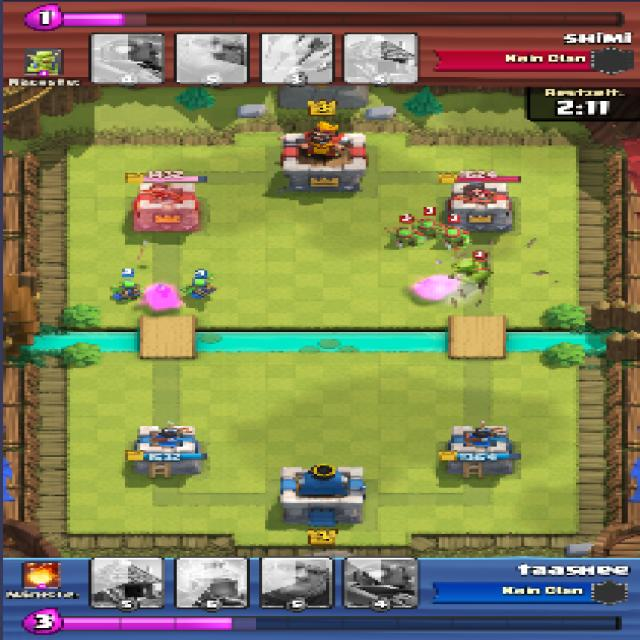Enemy-SpearGoblin: (384, 226, 422, 246), (437, 228, 469, 248), (414, 214, 438, 238)
Player-GoblinCage: (455, 257, 494, 286)
Player-SpearGoblin: (180, 270, 214, 299), (106, 279, 144, 300)
